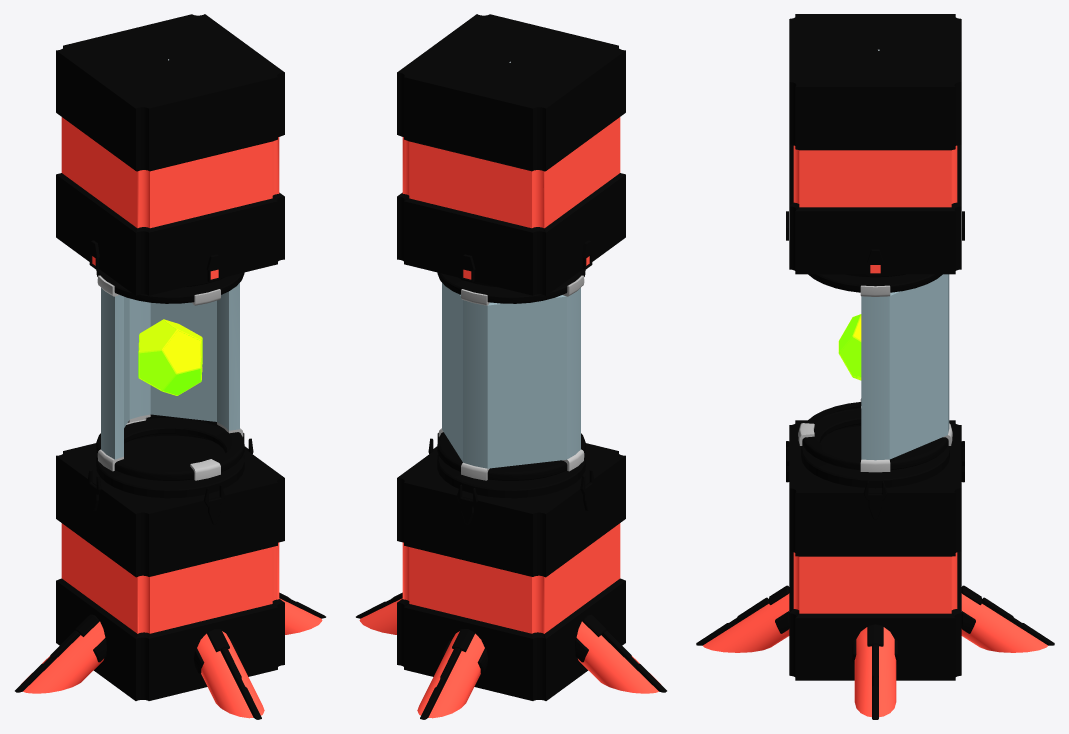
File: Hedro_Holo_Spot.fbx
3 renders of one model, left to right at view 1: azimuth 30°, elevation 25°; view 2: azimuth 150°, elevation 25°; view 3: azimuth 270°, elevation 25°, orthographic.
Visible parts, largest first — view 1: Top_hedro_Spot, Base_hedro_Spot, Mod_Hedro_Spot_Glass, Hedro_Conrtainer, sec_detail_spot_002, Hedro_Holo, sec_detail_spot_001, sec_detail_spot, Cube_021, sec_detail_spot_003; view 2: Top_hedro_Spot, Base_hedro_Spot, Mod_Hedro_Spot_Glass, sec_detail_spot_002, Hedro_Conrtainer, sec_detail_spot_001, sec_detail_spot, Cube_021, sec_detail_spot_003; view 3: Top_hedro_Spot, Base_hedro_Spot, Mod_Hedro_Spot_Glass, sec_detail_spot_002, Hedro_Conrtainer, sec_detail_spot_001, sec_detail_spot, Hedro_Holo, Cube_021.
Boxes of the visible parts, <box> form: Top_hedro_Spot: <box>56,14,284,295</box>; Base_hedro_Spot: <box>56,435,284,700</box>; Mod_Hedro_Spot_Glass: <box>97,275,243,480</box>; Hedro_Conrtainer: <box>96,269,244,498</box>; sec_detail_spot_002: <box>21,598,322,718</box>; Hedro_Holo: <box>138,319,202,395</box>; sec_detail_spot_001: <box>15,592,325,719</box>; sec_detail_spot: <box>75,614,239,673</box>; Cube_021: <box>87,433,253,524</box>; sec_detail_spot_003: <box>89,240,221,282</box>; Top_hedro_Spot: <box>397,14,625,295</box>; Base_hedro_Spot: <box>397,443,625,700</box>; Mod_Hedro_Spot_Glass: <box>438,275,584,480</box>; sec_detail_spot_002: <box>359,598,660,718</box>; Hedro_Conrtainer: <box>437,269,585,498</box>; sec_detail_spot_001: <box>356,592,666,719</box>; sec_detail_spot: <box>442,614,606,673</box>; Cube_021: <box>428,433,594,524</box>; sec_detail_spot_003: <box>460,240,592,282</box>; Top_hedro_Spot: <box>789,14,961,274</box>; Base_hedro_Spot: <box>789,420,961,680</box>; Mod_Hedro_Spot_Glass: <box>798,274,952,472</box>; sec_detail_spot_002: <box>703,593,1047,717</box>; Hedro_Conrtainer: <box>801,274,949,488</box>; sec_detail_spot_001: <box>696,597,1054,719</box>; sec_detail_spot: <box>768,585,982,664</box>; Hedro_Holo: <box>838,314,861,380</box>; Cube_021: <box>786,441,964,519</box>.
Bounding box in the file's own units: 312 × 571 × 312.
